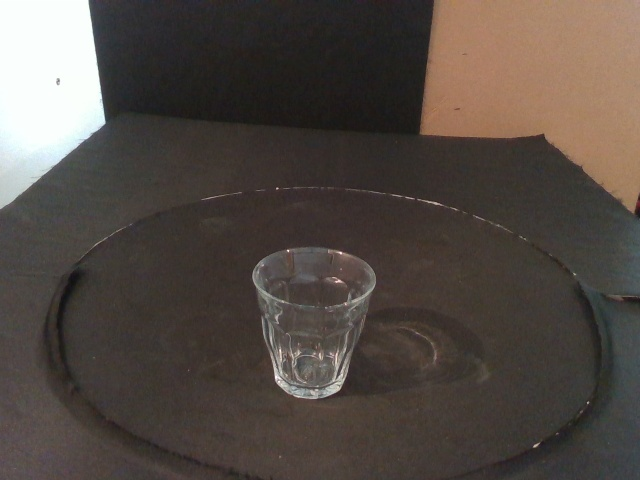glass: (252, 246, 377, 404)
